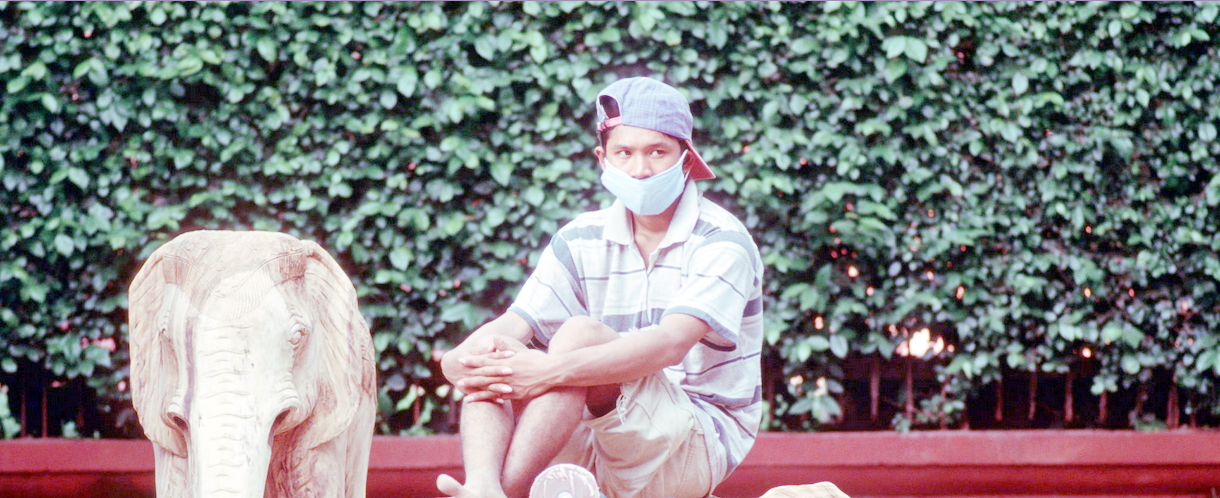mask_weared_incorrect: (590, 75, 709, 227)
